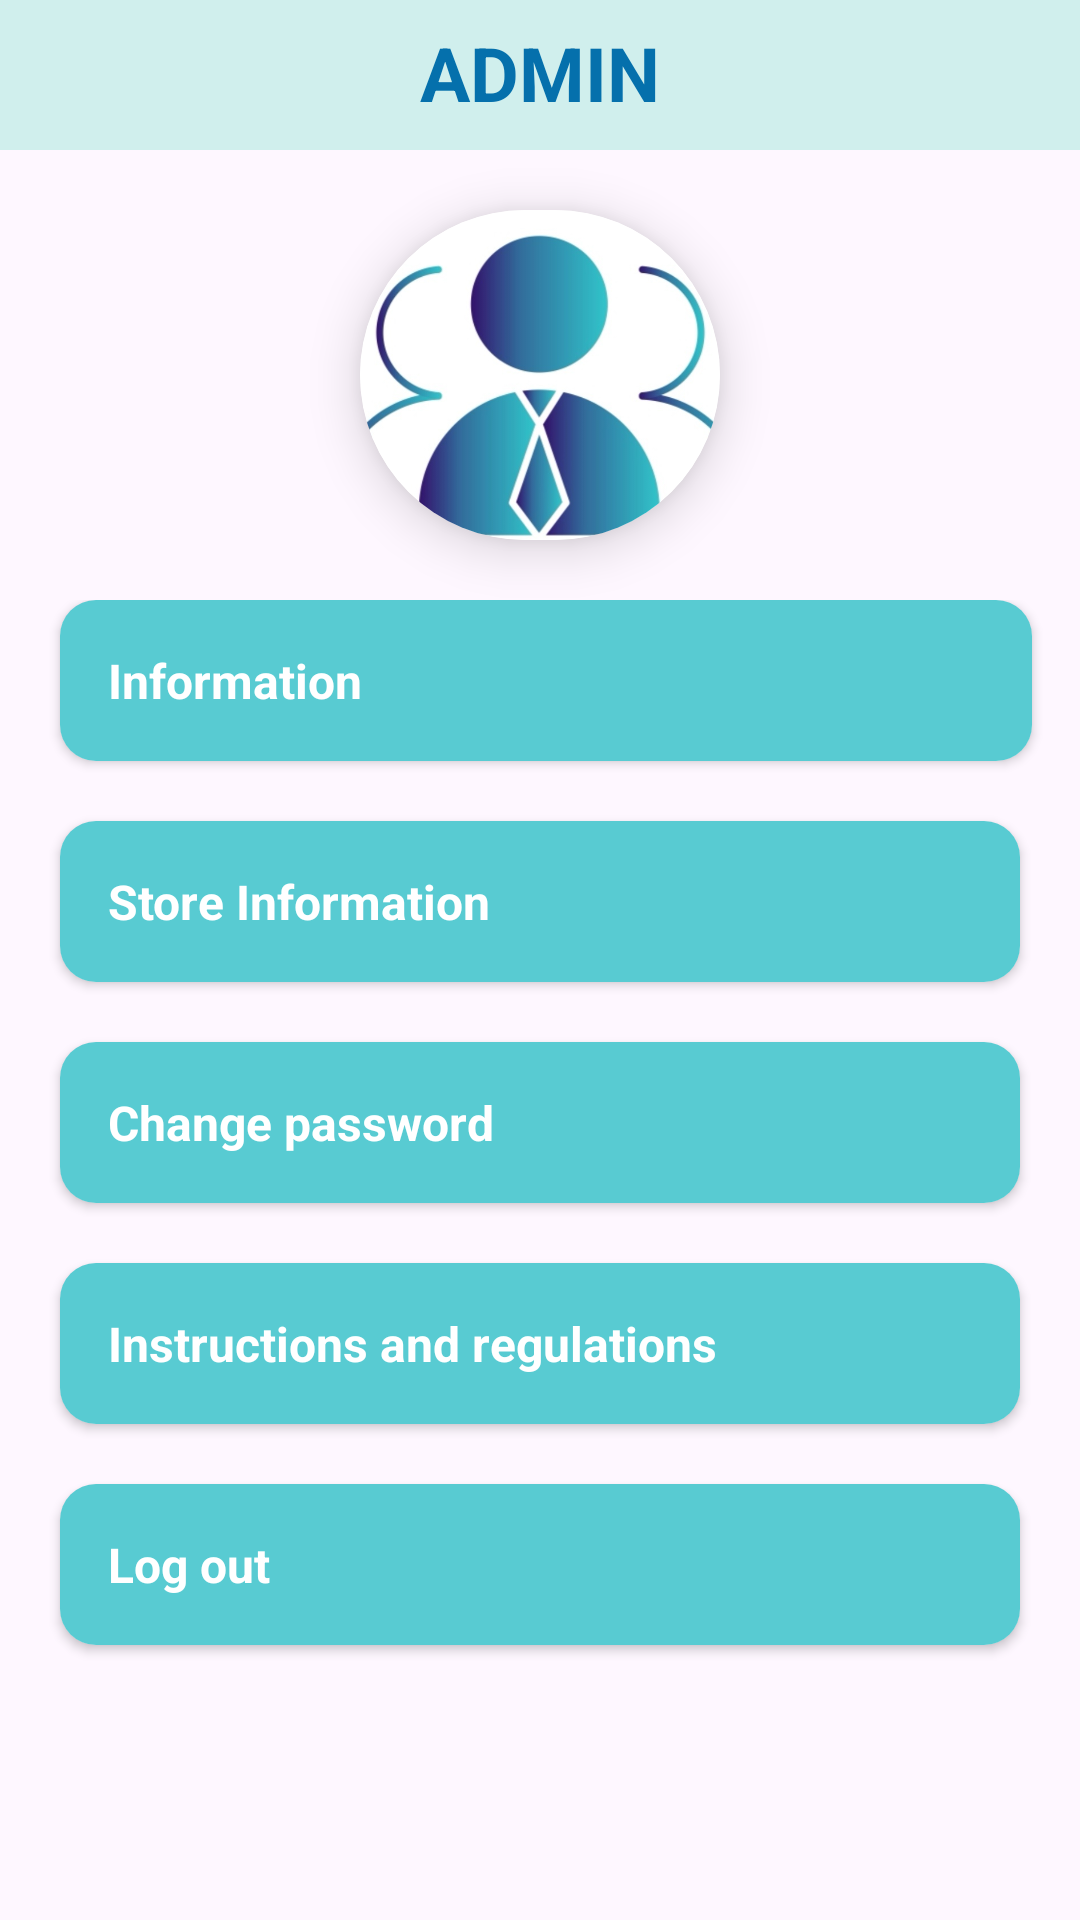

Point at icon controls on the screen. Image size 1080x1920, points as point (x, y).
manager: point (540, 375)
